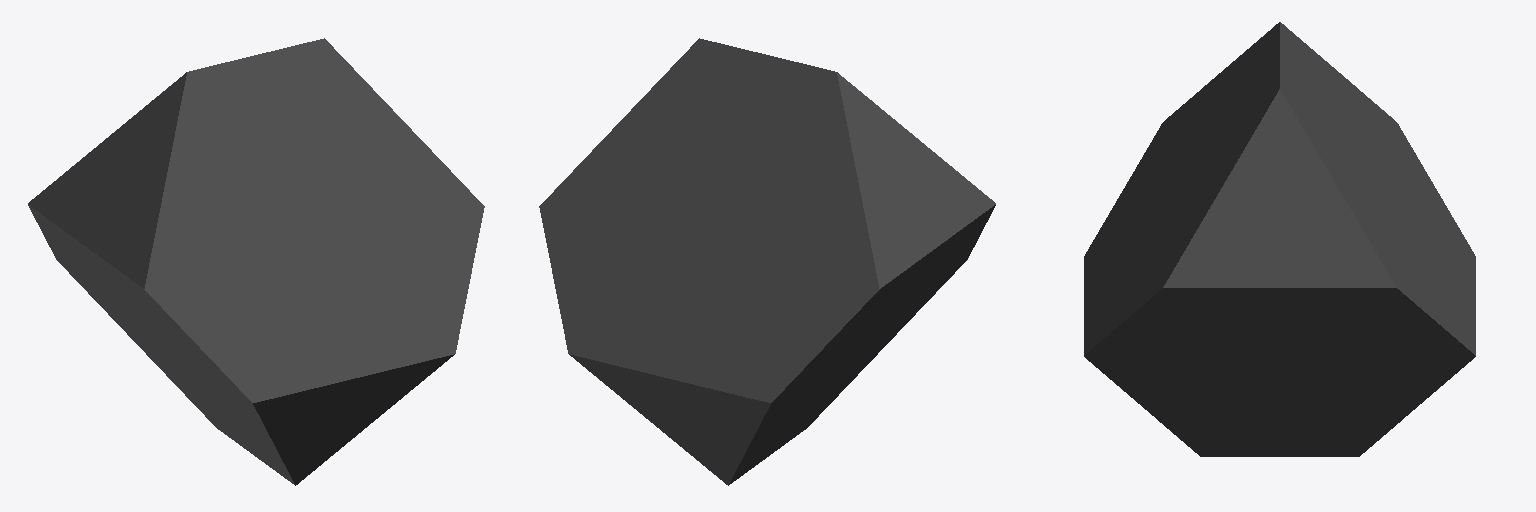
The model's file is meteorito4.obj.
3 views of the same model, side by side, from view 1: azimuth 30°, elevation 25°; view 2: azimuth 150°, elevation 25°; view 3: azimuth 270°, elevation 25° (orthographic).
Visible parts, largest first — view 1: Hedra001; view 2: Hedra001; view 3: Hedra001.
Boxes of the visible parts, x1=… form: Hedra001: x1=28, y1=38, x2=484, y2=485; Hedra001: x1=539, y1=38, x2=995, y2=485; Hedra001: x1=1084, y1=22, x2=1475, y2=456.
Size of the model in its own units: 25.3 by 28.55 by 25.3.